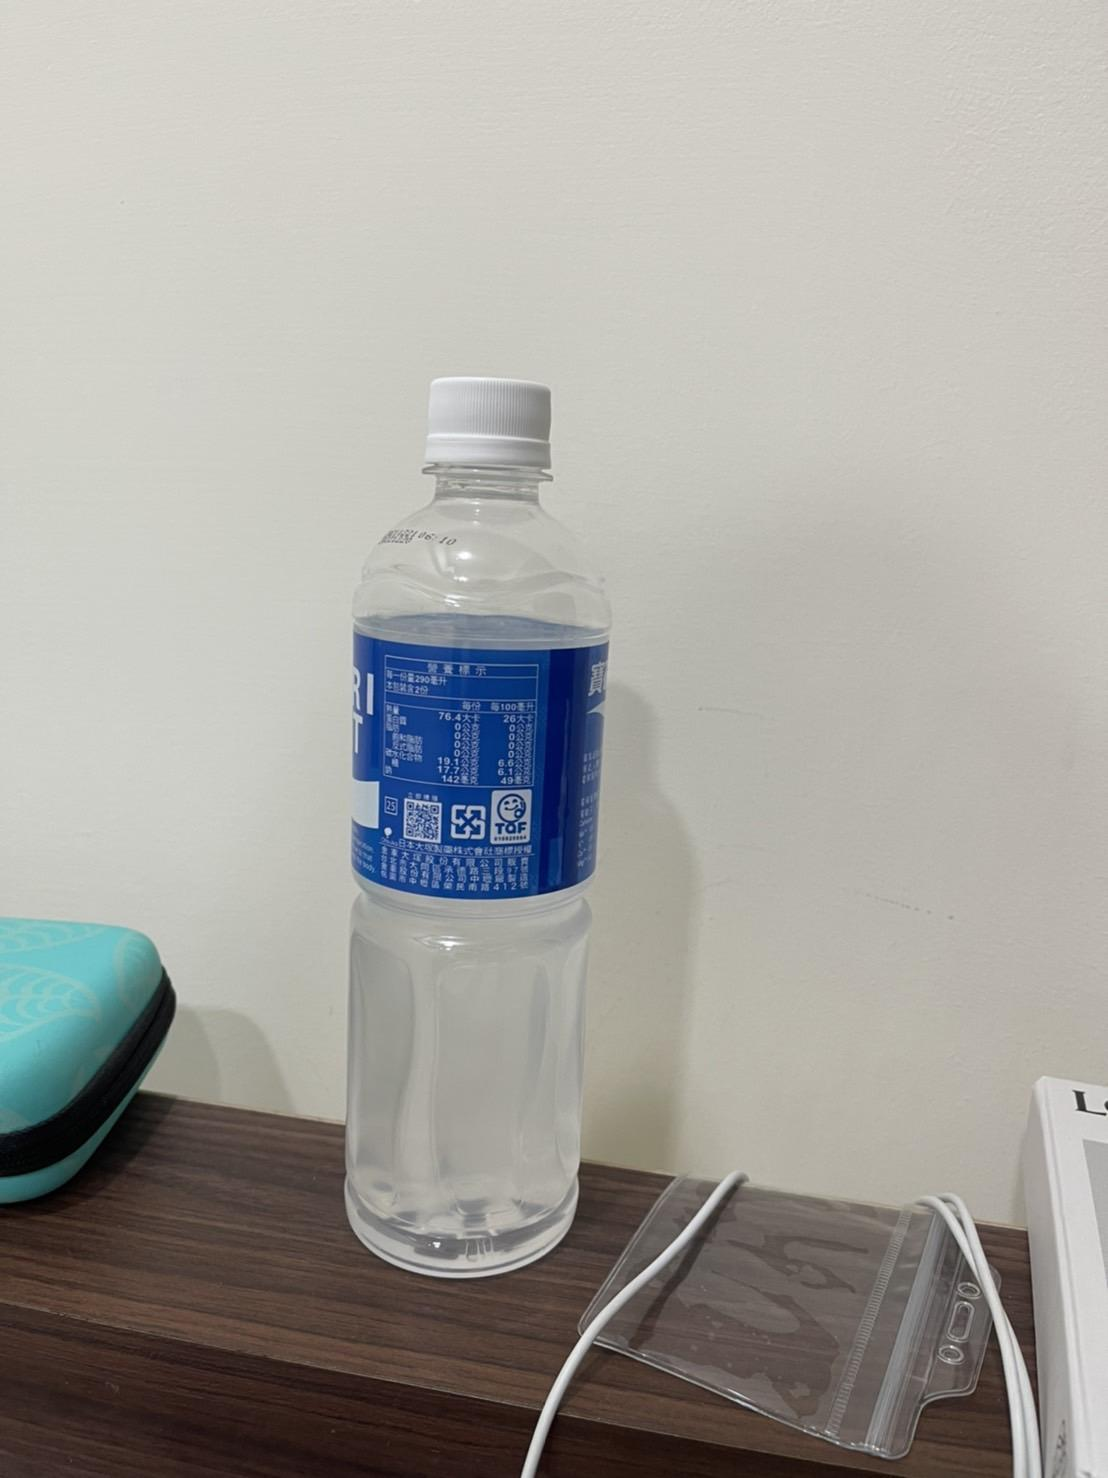bottle: (333, 371, 625, 1296)
